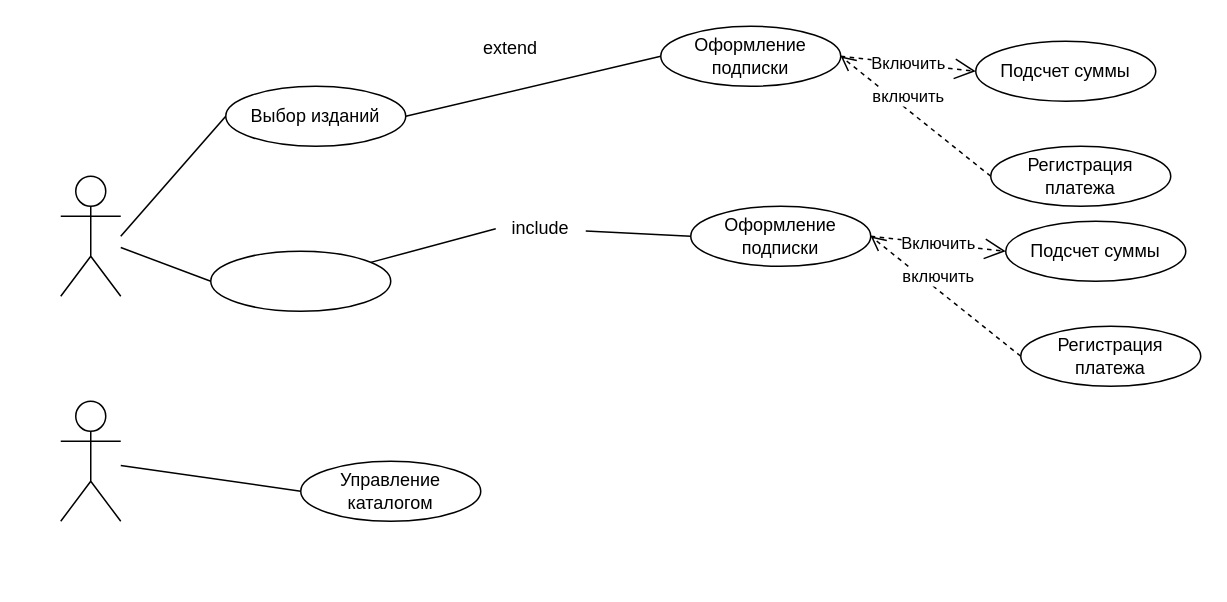
Some shapes in this 1227 by 602 pixel diagram are drawn without their labels. Here are the shapes that lost their labels. From the top down, the centre of each, then its label:
At point 90,235: "Читатель".
At point 300,280: "Просмотр каталога".
At point 90,460: "Администратор".
